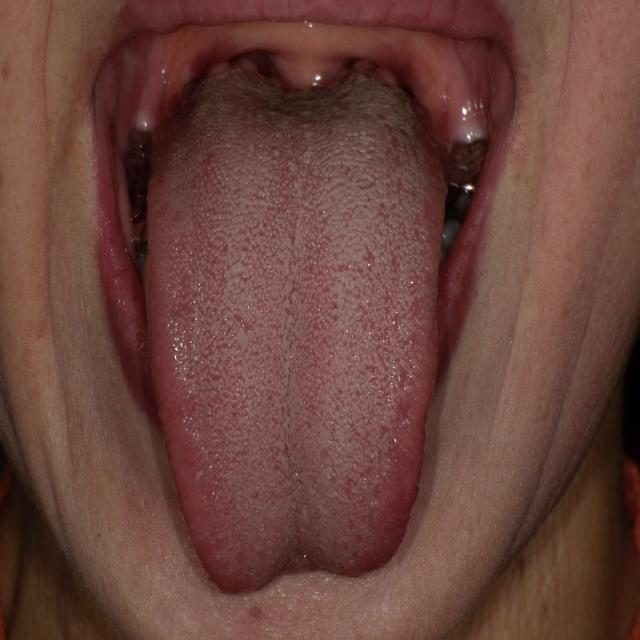baitaishe: (144, 61, 448, 595)
shenquao: (232, 61, 365, 117)
xinfeiao: (236, 548, 355, 596)
